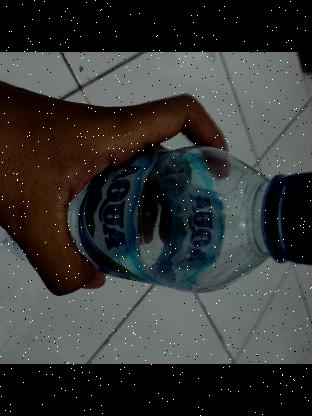Plastic Bottle: (0, 144, 312, 295)
